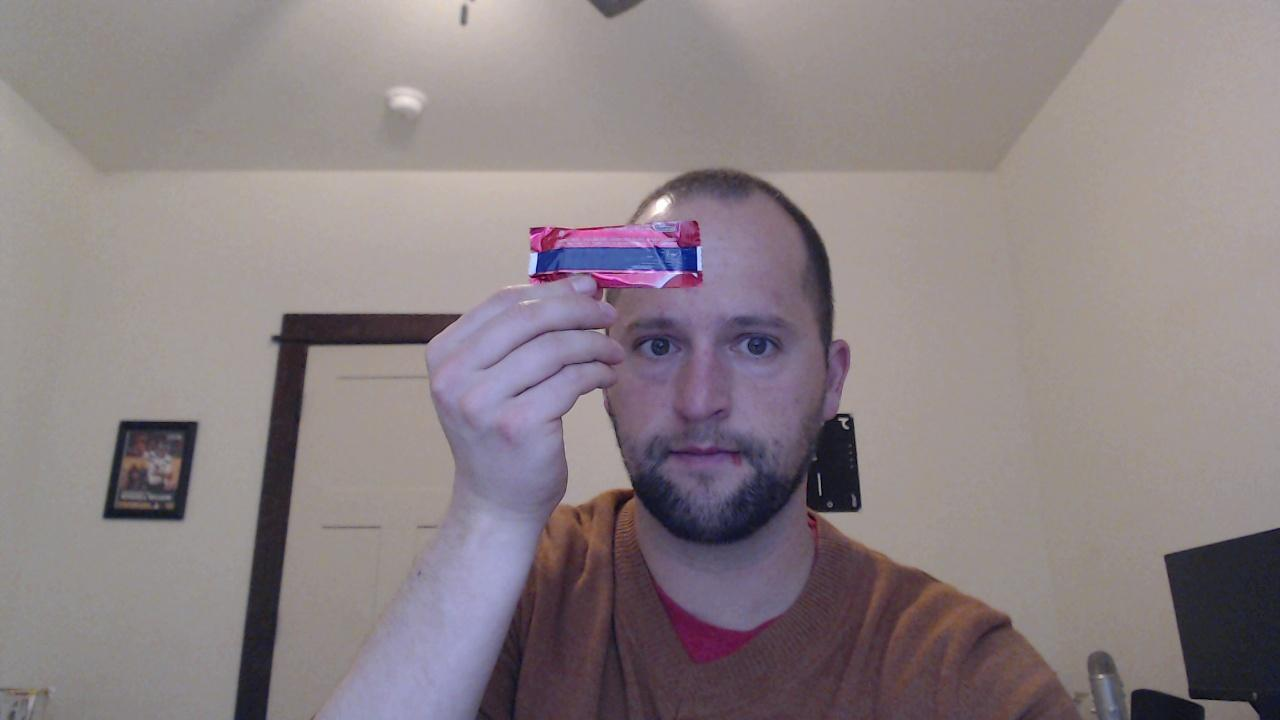airheads: (524, 220, 709, 293)
